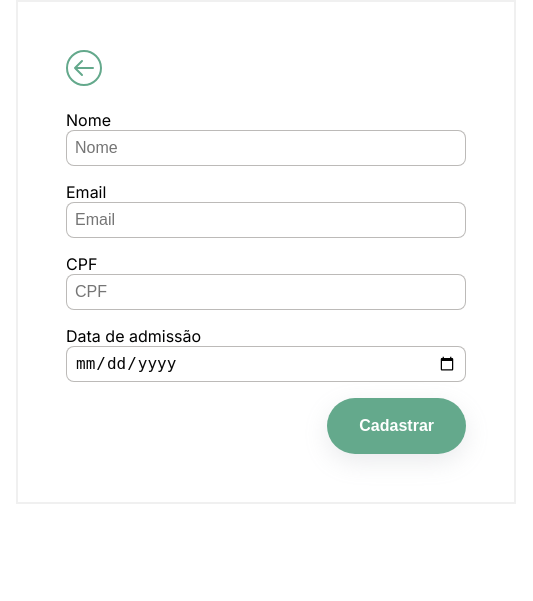
it: NewUserPage › should show validation errors when submitting empty form
Click the button "Cadastrar".
click(397, 426)  # box [327, 398, 466, 454]
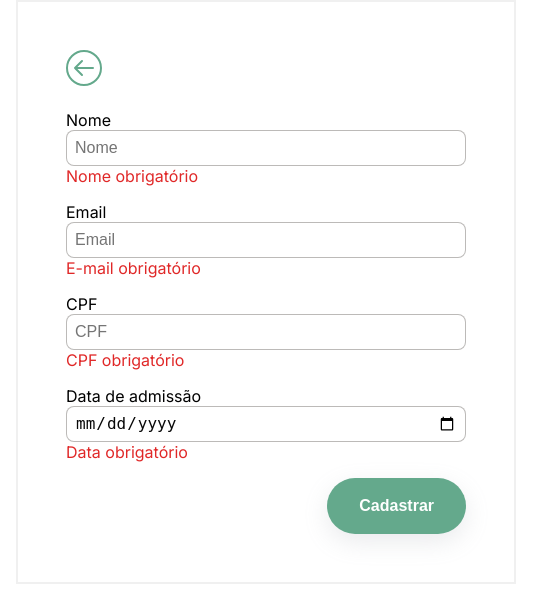
Check: the text "Nome obrigatório" is shown, box [66, 166, 198, 186]
Check: the text "E-mail obrigatório" is shown, box [66, 258, 201, 278]
Check: the text "CPF obrigatório" is shown, box [66, 350, 184, 370]
